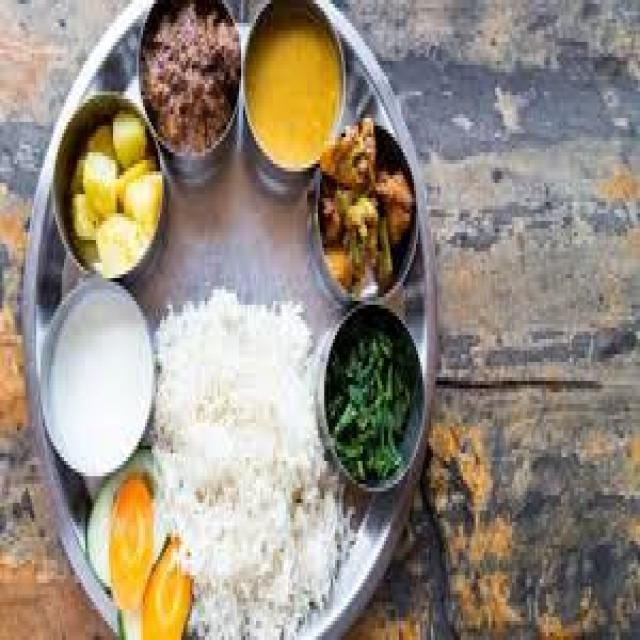curd: (36, 276, 162, 484)
dal: (245, 9, 351, 165)
rice: (162, 290, 317, 614)
sweet: (89, 475, 161, 590)
veg-fry: (315, 110, 414, 306)
